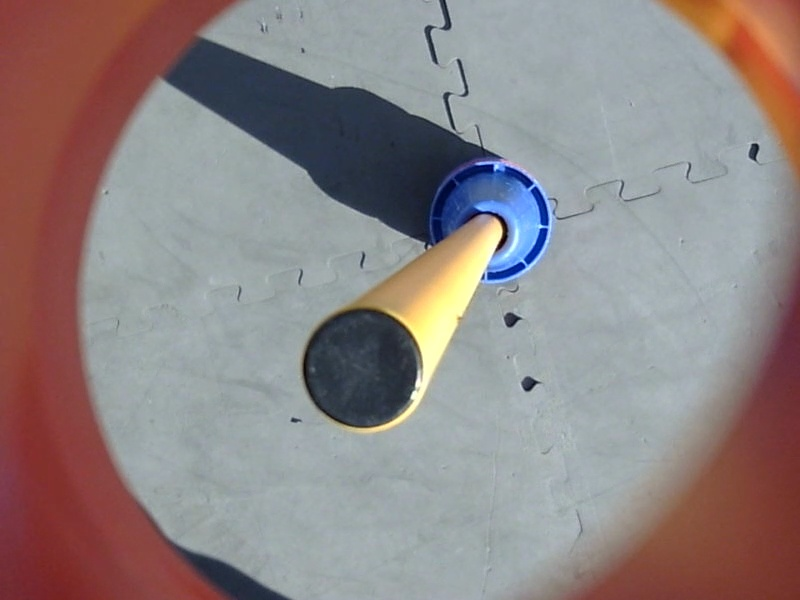tip: (295, 300, 432, 438)
